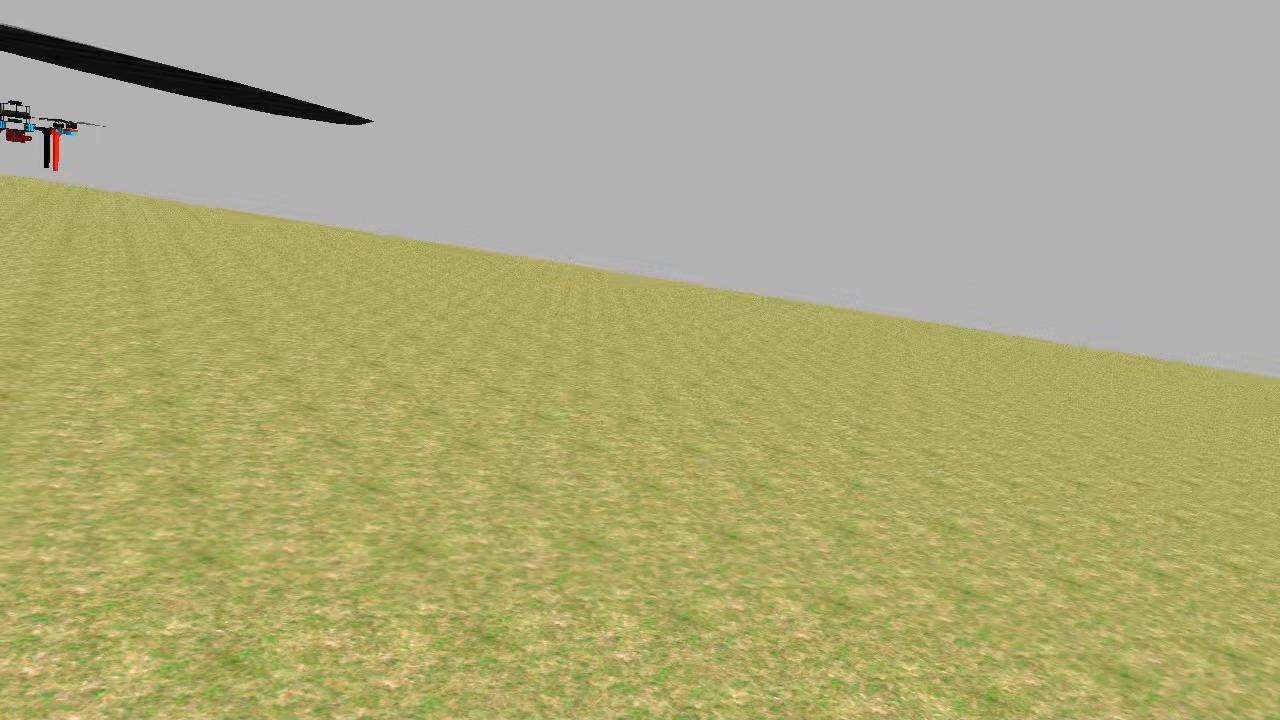UAV: (0, 94, 88, 178)
